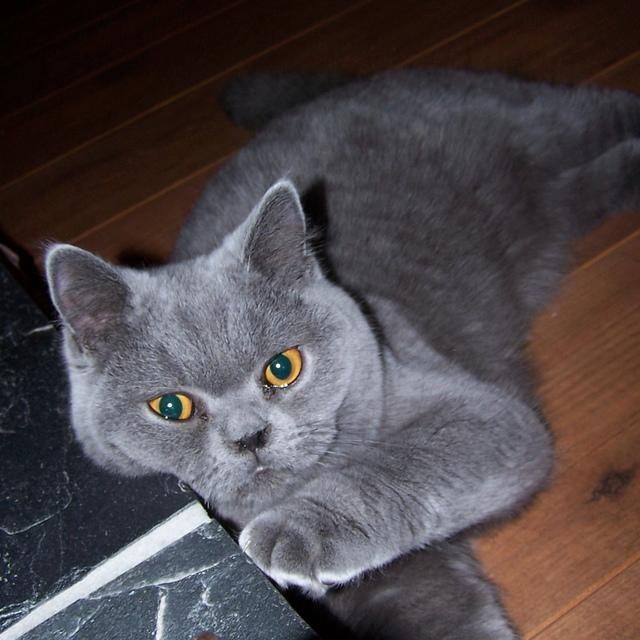animals: (56, 183, 313, 449)
